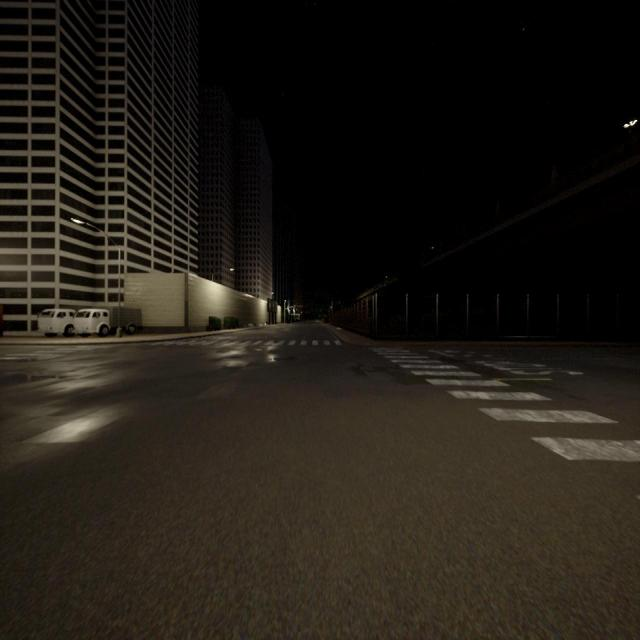Vehicle: (71, 306, 143, 338), (37, 307, 75, 338)
